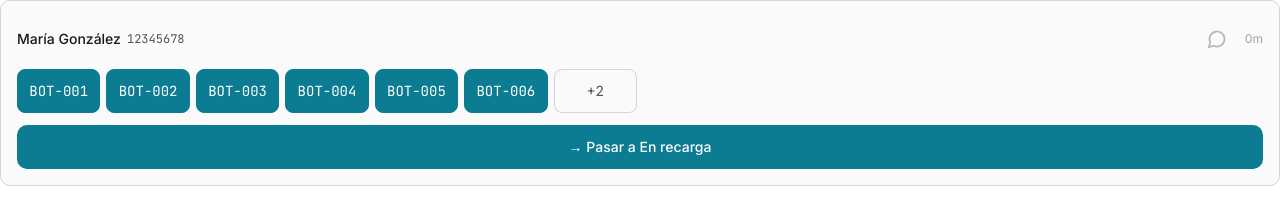
Scenario: GrupoCardKanban — REQ-COS-23 › expands the hidden chips when the +N button is tapped and removes it after (mirrors GrupoCard)
Expected: the number of buttons "BOT-001" is 6, [17, 69, 100, 113]; [106, 69, 190, 113]; [196, 69, 279, 113]; [285, 69, 369, 113]; [375, 69, 458, 113]; [464, 69, 548, 113]
Click the button named "Mostrar 2 botellones más": (595, 91) [554, 69, 637, 113]
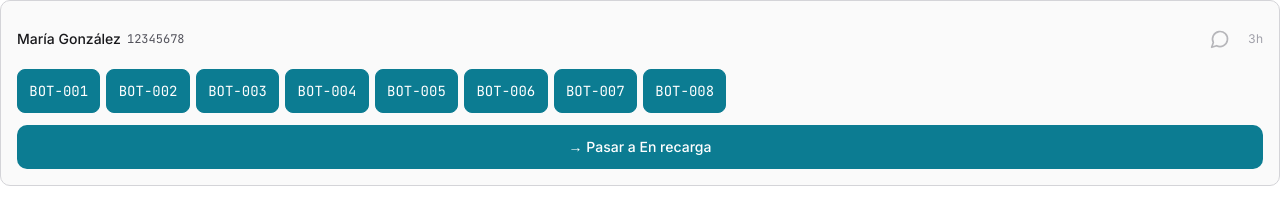
Expected: the number of buttons "BOT-001" is 8
